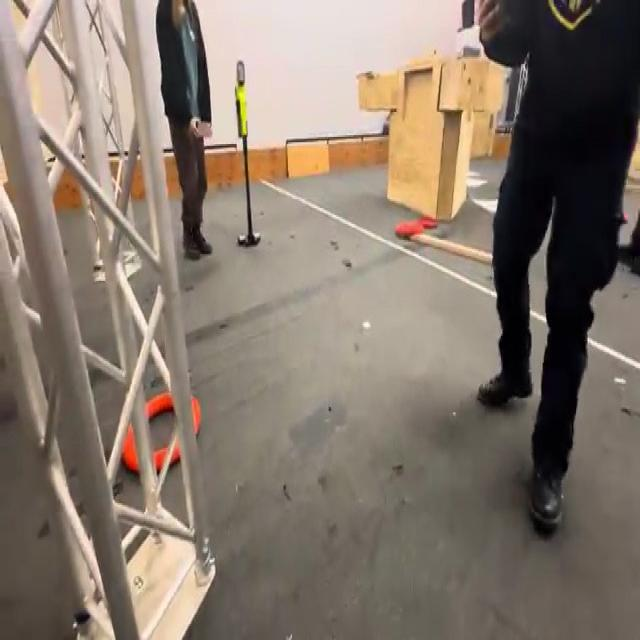note: (122, 388, 203, 477), (396, 220, 425, 241)
